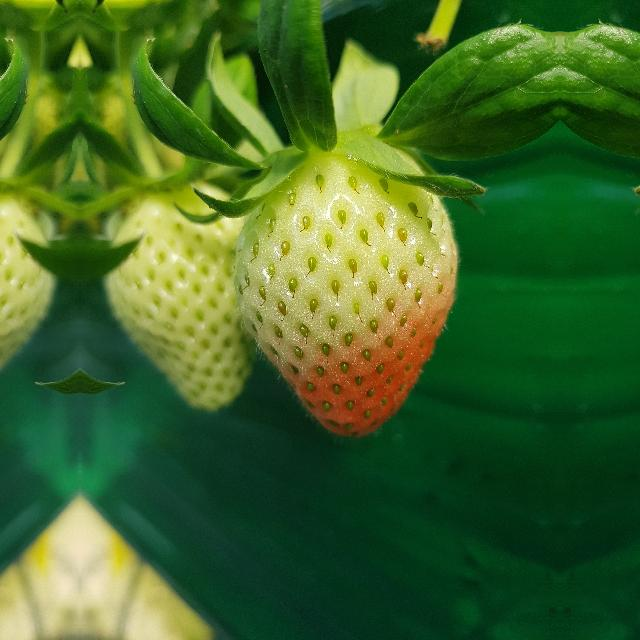Health_25: (103, 172, 275, 416), (0, 171, 57, 416)
Health_50: (230, 143, 460, 437)
